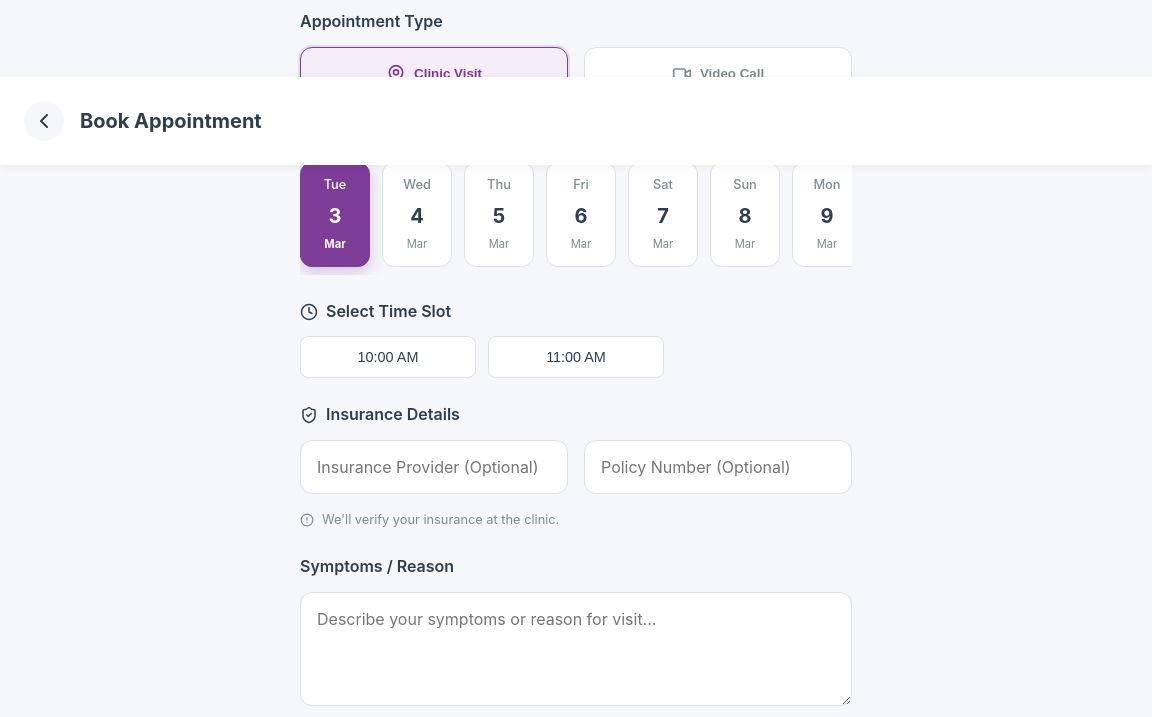
Test case: Booking Component › submits booking form
(page scrolled)
Note: Select slot
Click the button "10:00 AM". click: (388, 357)
box: x1=300 y1=336 x2=476 y2=378
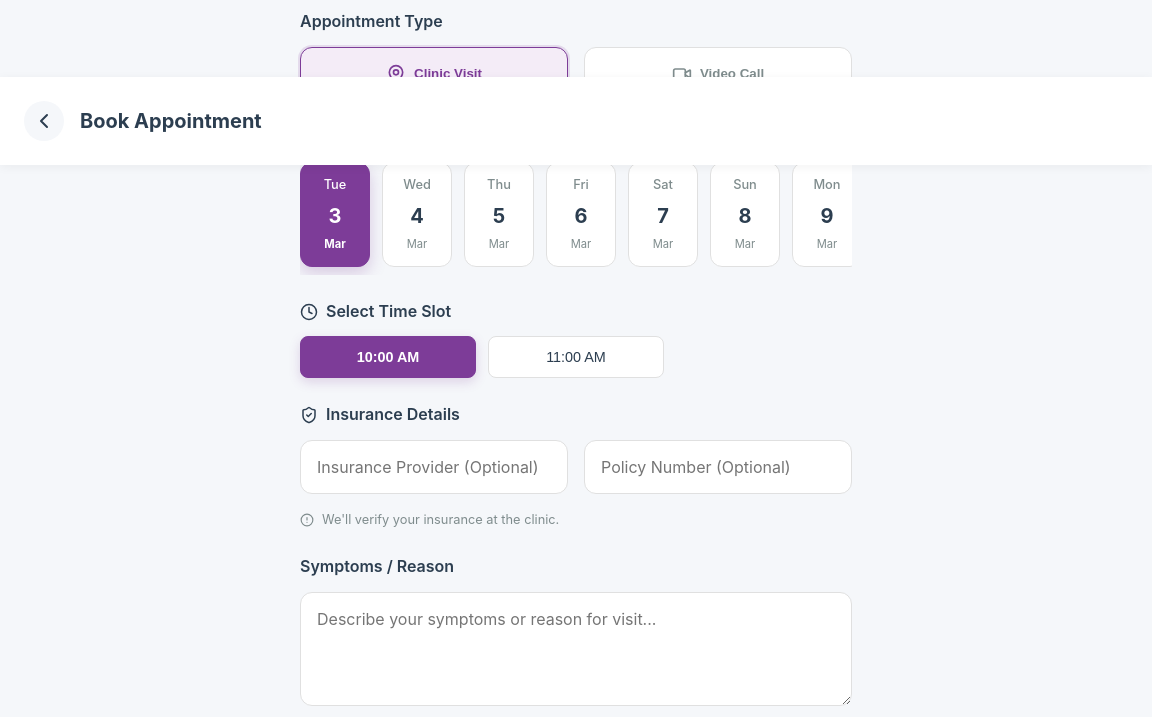
Note: Fill symptoms
Type "Headache" into the text box with placeholder "Describe your symptoms or reason for visit...". click: (576, 649)
box: x1=300 y1=592 x2=852 y2=706
(page scrolled)
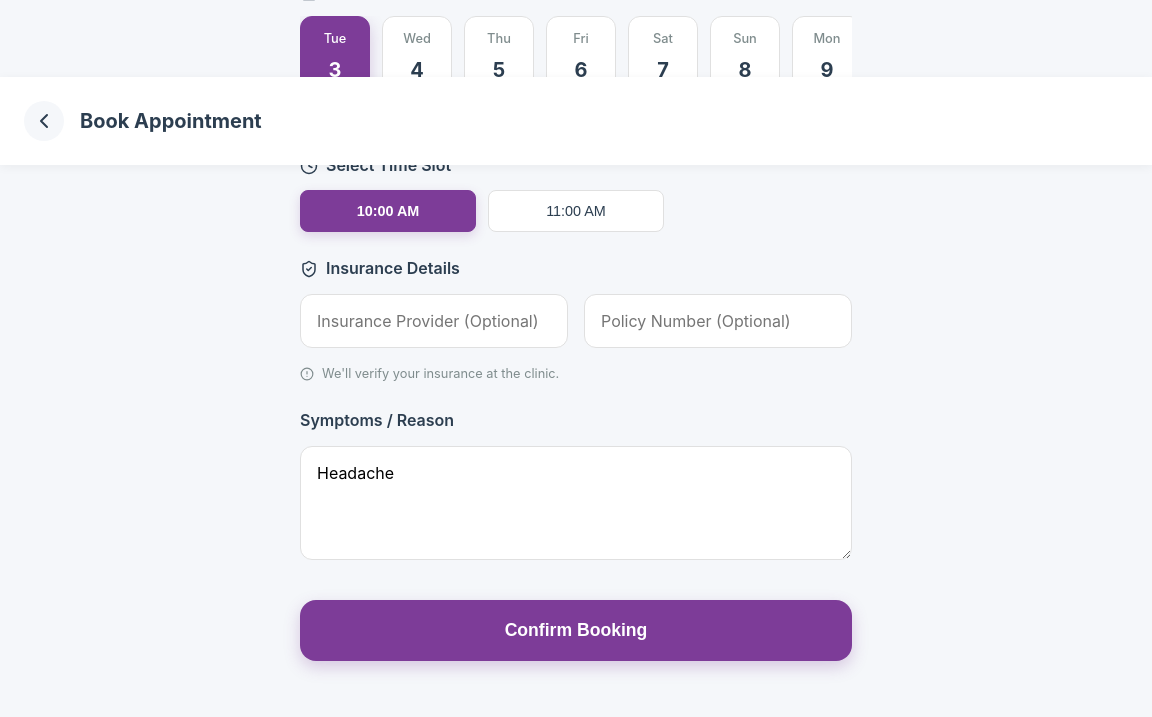
expect the button "Confirm Booking" is enabled: met
Click the button "Confirm Booking". click: (576, 631)
box: x1=300 y1=600 x2=852 y2=661
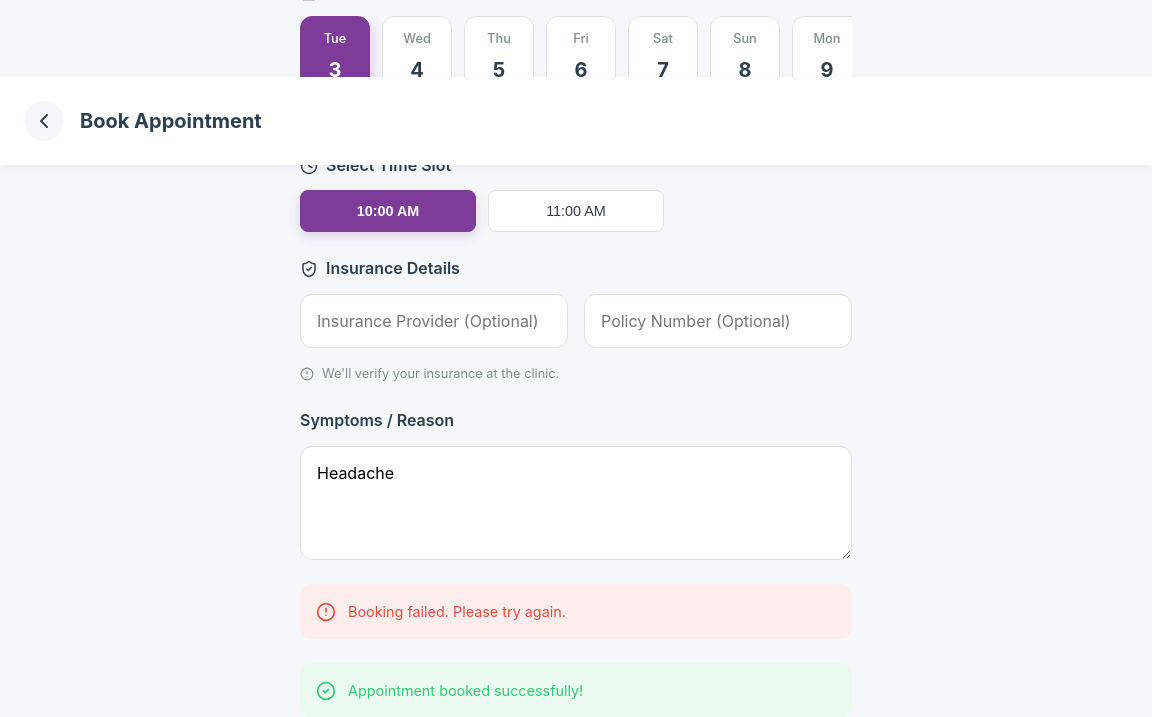
expect the text "Appointment booked successfully!" is shown: met, box x1=348 y1=679 x2=583 y2=702
